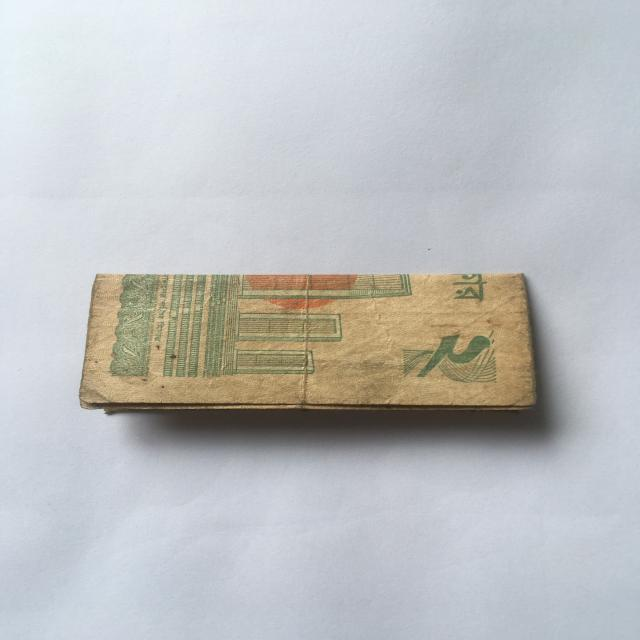Taka: (79, 267, 540, 415)
